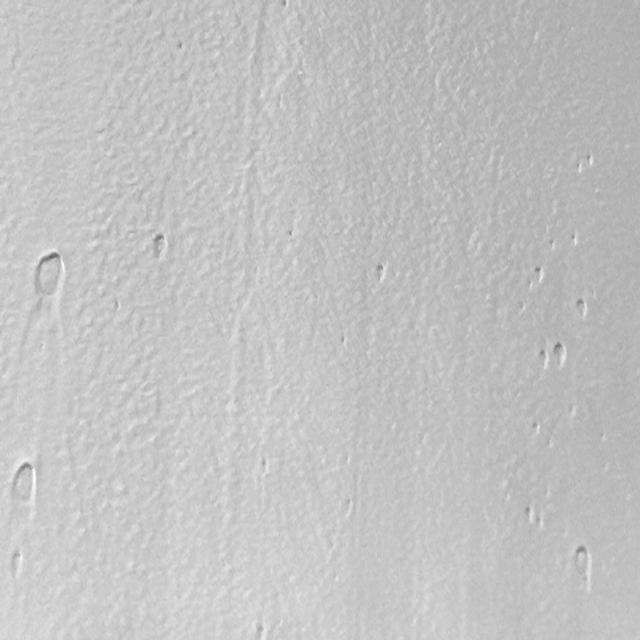pin holes: (30, 247, 67, 298), (6, 460, 42, 509), (568, 546, 596, 596), (6, 549, 26, 578), (551, 342, 571, 369), (150, 232, 169, 260), (574, 296, 592, 322), (373, 260, 391, 284), (522, 503, 538, 528), (255, 455, 273, 477), (537, 348, 552, 372), (532, 264, 548, 286), (255, 621, 272, 640), (583, 153, 596, 172), (531, 420, 544, 437), (570, 230, 582, 248), (547, 238, 558, 252), (278, 0, 292, 11)
